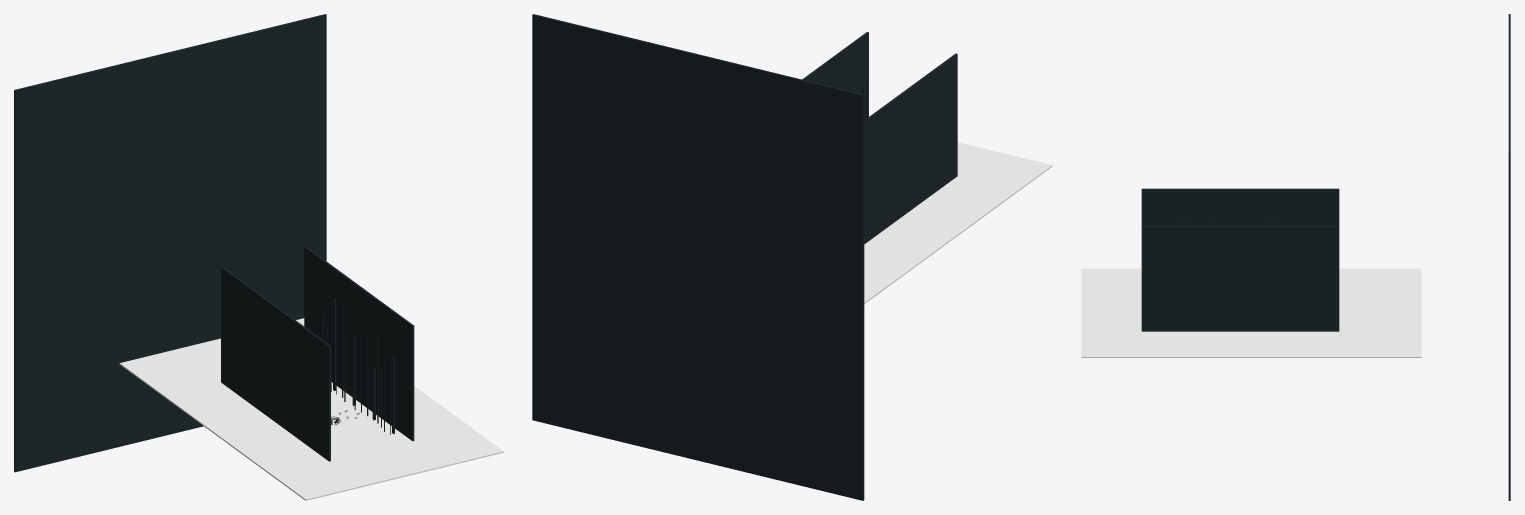
Rendered from room.glb.
3 renders of one model, left to right at view 1: azimuth 30°, elevation 25°; view 2: azimuth 150°, elevation 25°; view 3: azimuth 270°, elevation 25°, orthographic. The views are drawn at different scales.
Parts seen in each view (by area): view 1: WEB | Static V4 | Non-emissive charcoal hall, Polished concrete floor; view 2: WEB | Static V4 | Non-emissive charcoal hall, Polished concrete floor; view 3: WEB | Static V4 | Non-emissive charcoal hall, Polished concrete floor.
Part boxes in pixels (box(x1,y1,x2,y2)): WEB | Static V4 | Non-emissive charcoal hall: box(14, 14, 414, 472); Polished concrete floor: box(119, 318, 503, 500); WEB | Static V4 | Non-emissive charcoal hall: box(532, 14, 957, 500); Polished concrete floor: box(864, 142, 1052, 303); WEB | Static V4 | Non-emissive charcoal hall: box(1141, 14, 1510, 500); Polished concrete floor: box(1081, 268, 1421, 357).
Size of the model in its own units: 59.8 by 70 by 78.17.
Materials: 15 (7 with a texture image).
